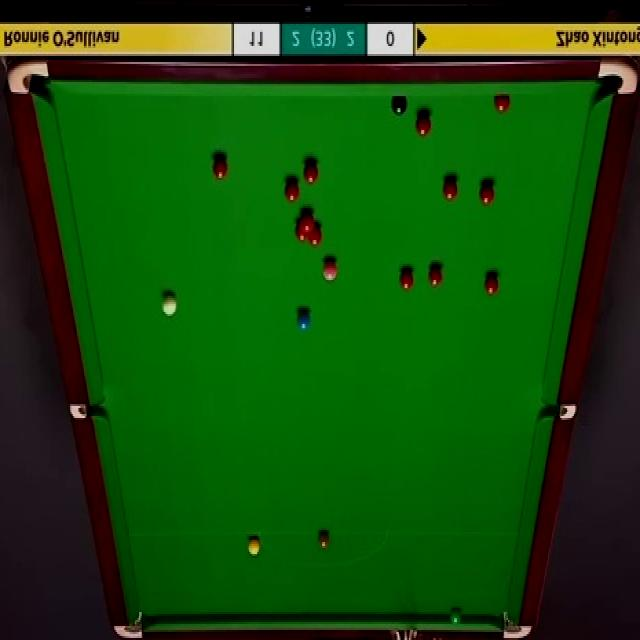black-ball: (392, 95, 408, 117)
blue-ball: (296, 311, 312, 332)
brown-ball: (318, 532, 330, 552)
green-ball: (450, 610, 463, 629)
pink-ball: (322, 256, 339, 281)
red-ball: (212, 151, 229, 183), (303, 160, 320, 189), (442, 176, 460, 202), (398, 267, 415, 294), (415, 110, 432, 136), (281, 179, 301, 201), (479, 182, 496, 206), (427, 264, 445, 286), (484, 271, 498, 296), (294, 218, 308, 242), (309, 222, 322, 246), (493, 97, 511, 114), (300, 210, 316, 229)
white-ball: (161, 292, 179, 318)
yellow-ball: (247, 538, 259, 554)
